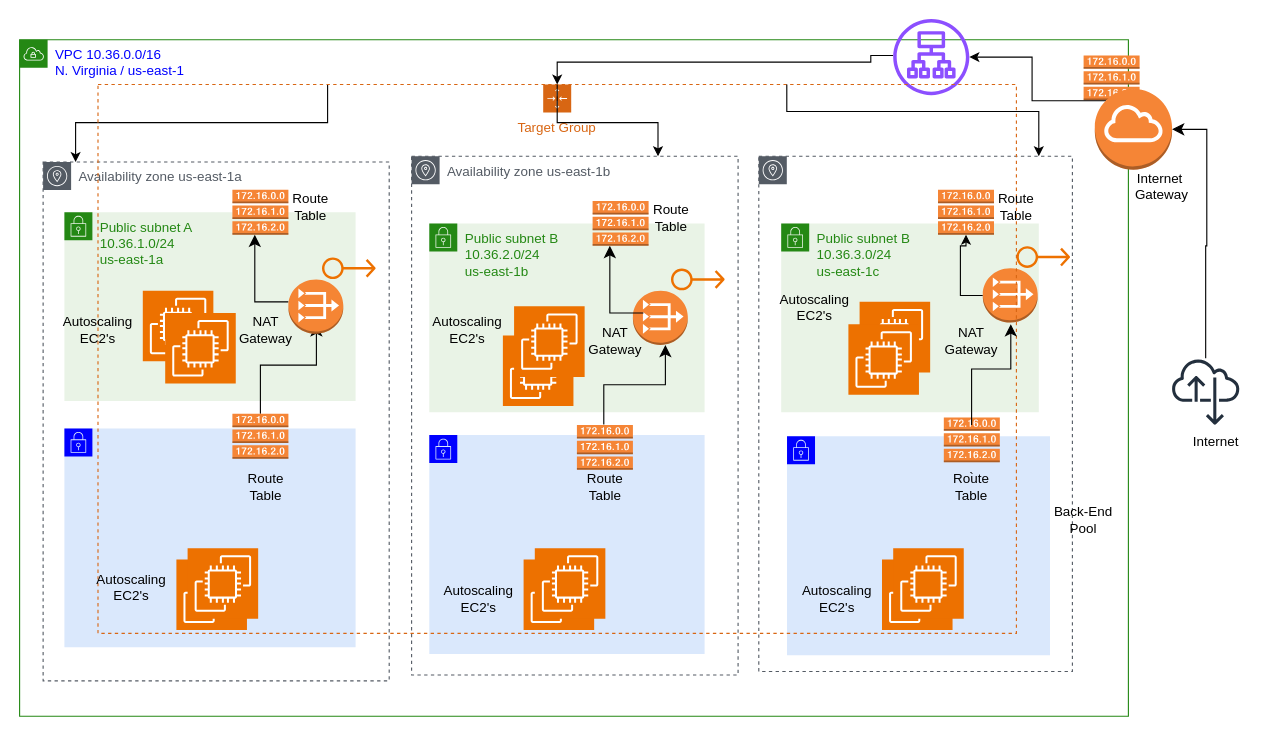
Some shapes in this 1271 by 736 pixel diagram are drawn without their labels. Each missing label, with the box of its shape:
Availability zone us-east-1c: (758, 155, 1072, 671)
Private subnet A 10.36.11.0/24 us-east-1a: (63, 427, 356, 647)
Private subnet B 10.36.12.0/24 us-east-1b: (428, 434, 705, 654)
Private subnet C 10.36.13.0/24 us-east-1c: (786, 435, 1050, 655)
